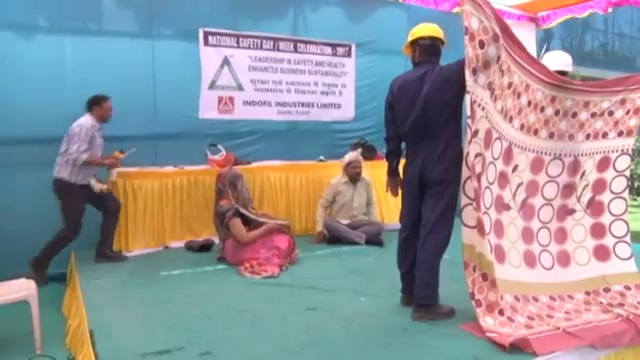helmet: (403, 21, 446, 51), (537, 48, 574, 76)
helmet_off: (87, 95, 113, 124), (213, 167, 242, 193), (343, 150, 364, 181)
helmet_on: (402, 20, 447, 68)
person: (384, 22, 469, 323), (33, 94, 128, 285), (210, 166, 298, 281), (314, 150, 386, 250)
